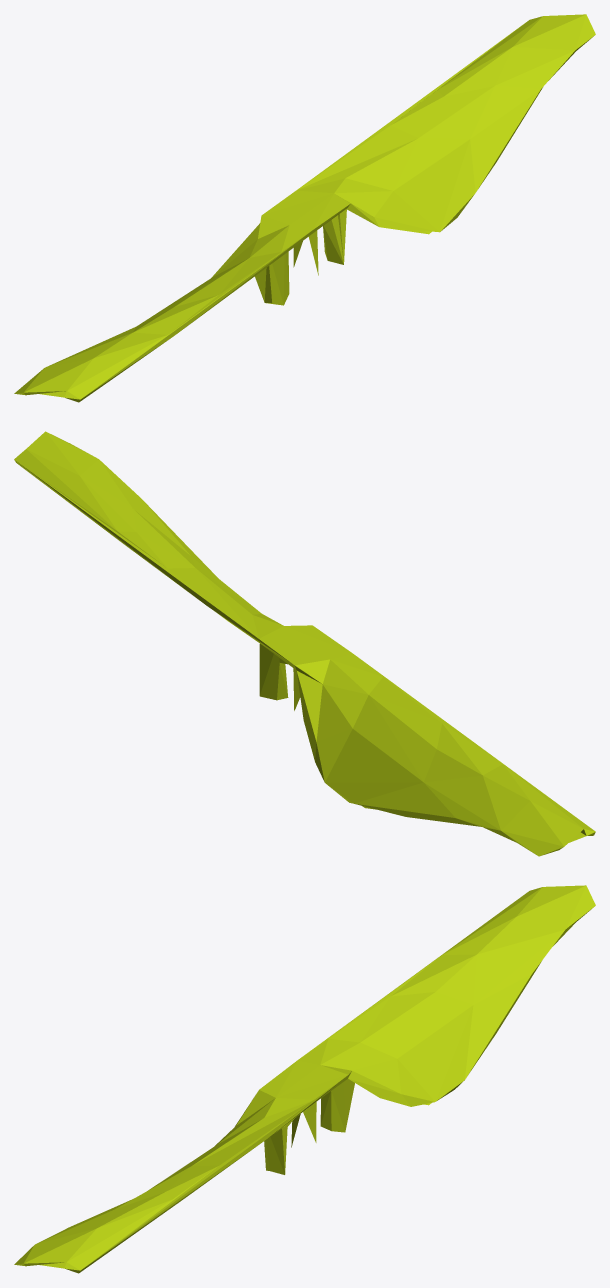
Rendered from propeller_scale.dae.
The picture shows the model from 3 angles, top to bottom: view 1: azimuth 90°, elevation 25°; view 2: azimuth 150°, elevation 25°; view 3: azimuth 270°, elevation 25°; orthographic projection. The views are drawn at different scales.
Visible parts, largest first — view 1: node_003; view 2: node_003; view 3: node_003.
Part boxes in pixels (x1,y1,x2,y2): node_003: [14, 14, 595, 402]; node_003: [14, 431, 595, 856]; node_003: [14, 885, 595, 1273].
Bounding box in the file's own units: 0.3012 × 0.1951 × 0.0297.
